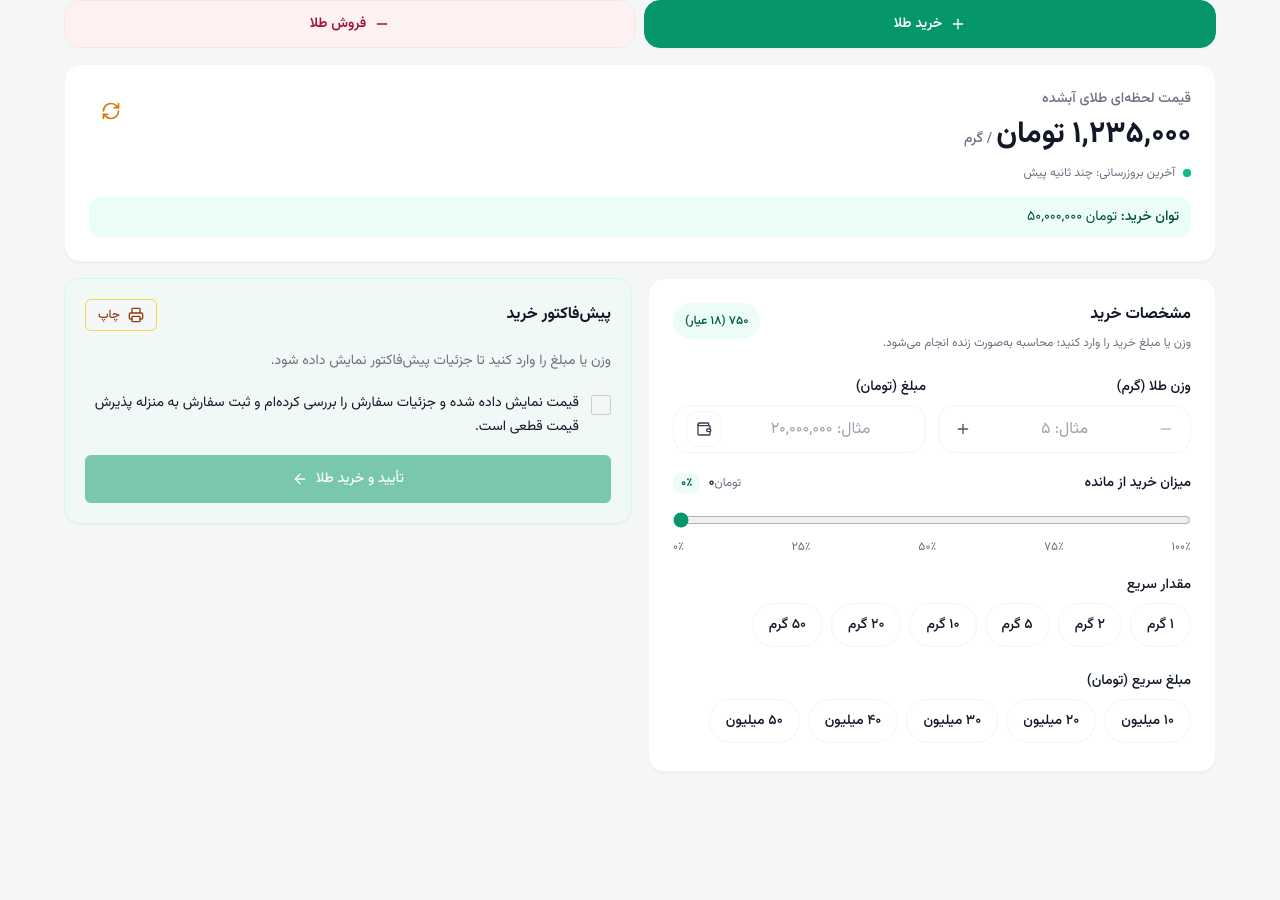
BuyGoldPage › prices the opposite panel while the weight is typed
Expected: the text "قیمت لحظه‌ای طلای آبشده" is shown, [1042,88,1191,110]
Type "۲" into the field labelled "وزن طلا (گرم)" at (1064, 429), box [985,406,1144,452]
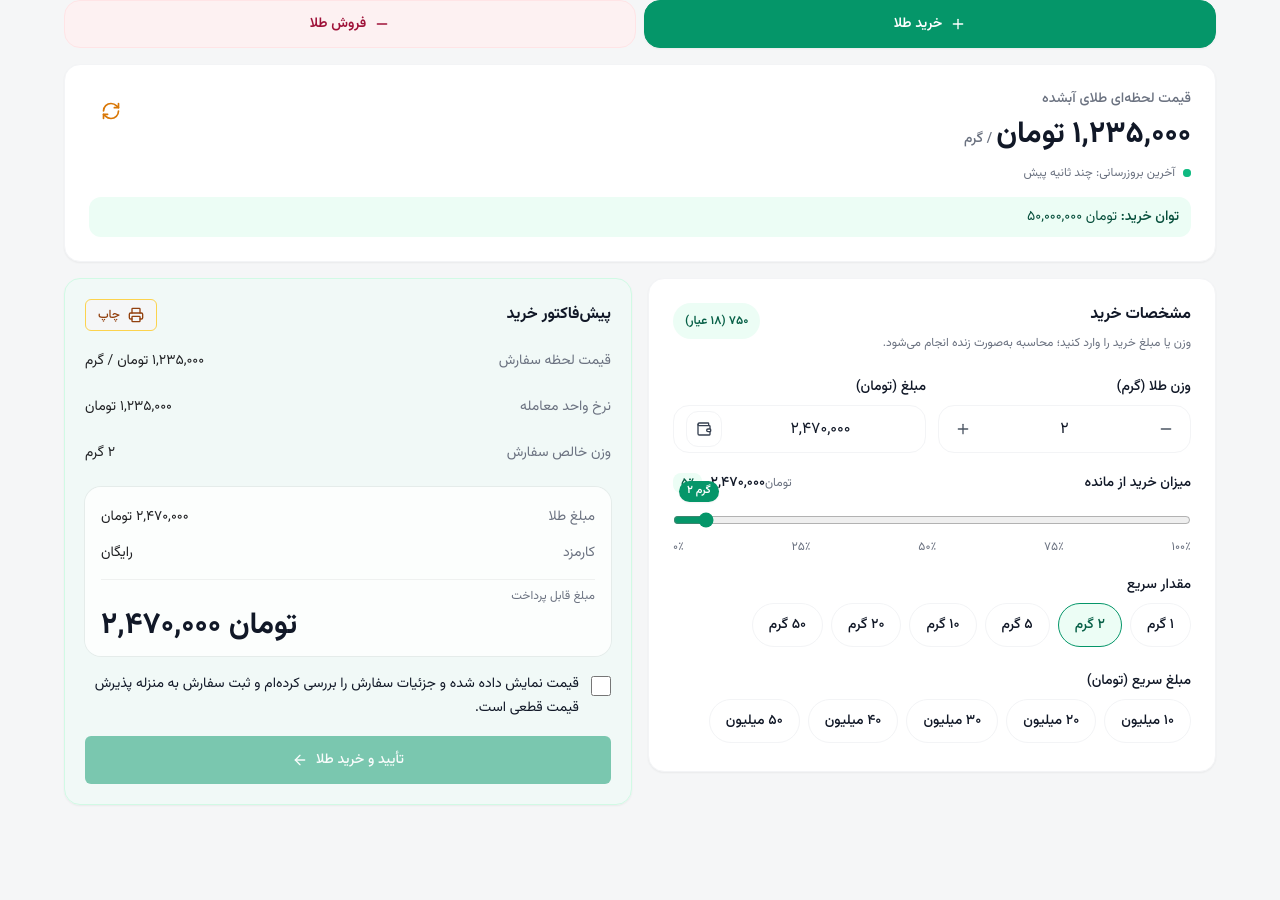
Now the text "مبلغ قابل پرداخت" is shown, box [511,587,595,605]
Now the field showing "۲,۴۷۰,۰۰۰" is shown, box [728,406,913,452]
